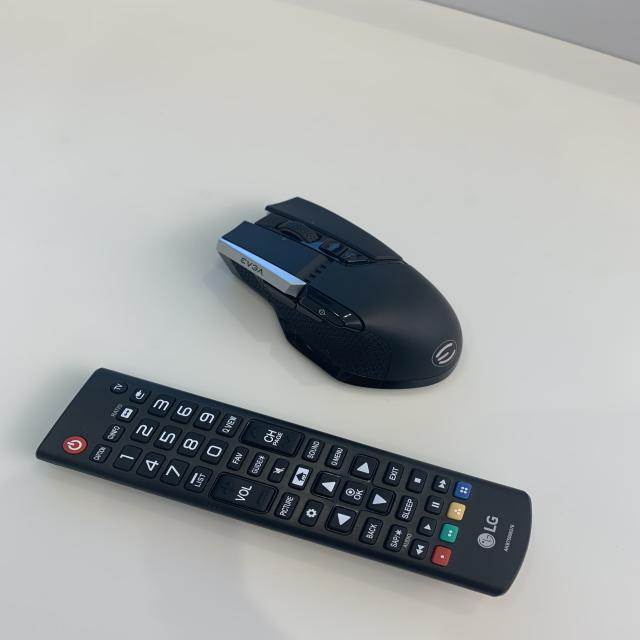Mouse: (214, 192, 470, 392)
